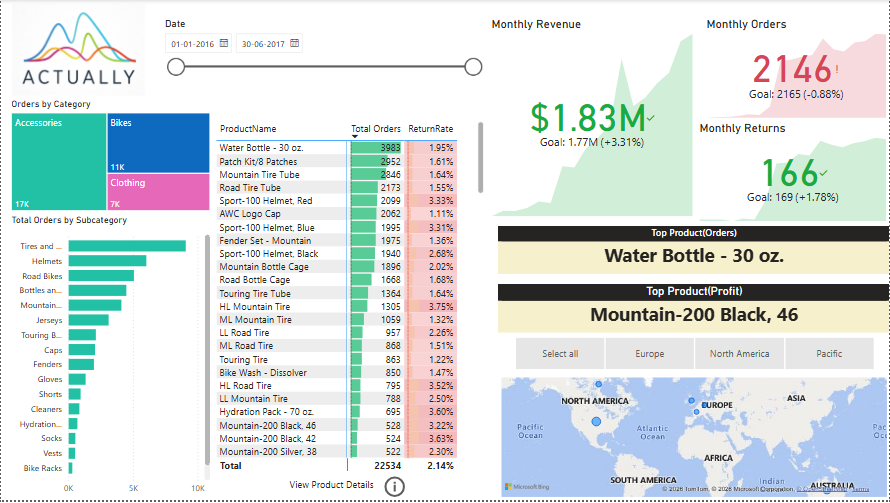

The dashboard page shown, as its layout file describes it:
{"tool":"powerbi","page":{"name":"Exec Summary","canvas":[1280,720],"ordinal":0},"visuals":[{"type":"pivotTable","fields":{"Rows":["AdventureWorks_Product_Categories - 1721571213704.CategoryName","AdventureWorks_Product_Subcategories - 1721571213708.SubcategoryName","AdventureWorks_Products - 1721571213710.ProductName"],"Values":["All Sales.Total Orders","AdventureWorks_Returns - 1721571213715.ReturnRate"]},"box":[306,169.6,395.2,513.8],"z":0},{"type":"slicer","fields":{"Values":["AdventureWorks_Calendar - 1721571213649.Date"]},"box":[223.5,19.9,477.7,150],"z":1000},{"type":"kpi","title":"Monthly Revenue","fields":{"Indicator":["All Sales.Total Revenue"],"TrendLine":["AdventureWorks_Calendar - 1721571213649.Start of Month"],"Goal":["All Sales.Prev Month Rev"]},"box":[701.2,24.2,299.6,292],"z":2000},{"type":"kpi","title":"Monthly Orders","fields":{"Indicator":["All Sales.Total Orders"],"Goal":["All Sales.Previous month order"],"TrendLine":["AdventureWorks_Calendar - 1721571213649.Start of Month"]},"box":[1011,24.2,269,150.4],"z":3000},{"type":"kpi","title":"Monthly Returns","fields":{"Indicator":["AdventureWorks_Returns - 1721571213715.Total Returns"],"Goal":["AdventureWorks_Returns - 1721571213715.Previous month Returns"],"TrendLine":["AdventureWorks_Calendar - 1721571213649.Start of Month"]},"box":[1000.8,174.7,279.2,149.2],"z":4000},{"type":"card","title":"Top Product(Orders)","fields":{"Values":["Min(AdventureWorks_Products - 1721571213710.ProductName)"]},"box":[715.2,325.1,564.8,68.8],"z":5000},{"type":"card","title":"Top Product(Profit)","fields":{"Values":["Min(AdventureWorks_Products - 1721571213710.ProductName)"]},"box":[715.2,409.2,564.8,70.1],"z":6000},{"type":"treemap","title":"Orders by Category","fields":{"Group":["AdventureWorks_Product_Categories - 1721571213704.CategoryName","AdventureWorks_Product_Subcategories - 1721571213708.SubcategoryName"],"Values":["All Sales.Total Orders"]},"box":[10.2,142.8,295.8,165.7],"z":7000},{"type":"barChart","title":"Total Orders by Subcategory","fields":{"Category":["AdventureWorks_Product_Subcategories - 1721571213708.SubcategoryName"],"Y":["All Sales.Total Orders"]},"box":[10,309,296,411],"z":8000},{"type":"image","box":[0,0,223.1,142.8],"z":9000},{"type":"map","fields":{"Category":["AdventureWorks_Territories - 1721571213740.Country"],"Size":["All Sales.Total Orders"]},"box":[715.2,538,564.8,182.3],"z":10000},{"type":"slicer","fields":{"Values":["AdventureWorks_Territories - 1721571213740.Continent"]},"box":[715.2,479.4,564.8,58.6],"z":11000},{"type":"textbox","box":[410.5,683.3,186.1,37],"z":12000},{"type":"actionButton","box":[546.9,680.8,99.4,39.5],"z":13000}]}

Visuals, with their boxes in screenshot pixels (x1, y1, x2, y2), scaled from the page's 1280x720 canvas onto the 890x503 screenshot:
pivotTable - AdventureWorks_Product_Categories - 1721571213704.CategoryName x AdventureWorks_Product_Subcategories - 1721571213708.SubcategoryName: 213 118 488 477
slicer - AdventureWorks_Calendar - 1721571213649.Date: 155 14 488 119
"Monthly Revenue" kpi: 488 17 696 221
"Monthly Orders" kpi: 703 17 889 122
"Monthly Returns" kpi: 696 122 889 226
"Top Product(Orders)" card: 497 227 889 275
"Top Product(Profit)" card: 497 286 889 335
"Orders by Category" treemap: 7 100 213 216
"Total Orders by Subcategory" barChart: 7 216 213 502
image: 0 0 155 100
map - AdventureWorks_Territories - 1721571213740.Country x All Sales.Total Orders: 497 376 889 502
slicer - AdventureWorks_Territories - 1721571213740.Continent: 497 335 889 376
textbox: 285 477 415 502
actionButton: 380 476 449 502
